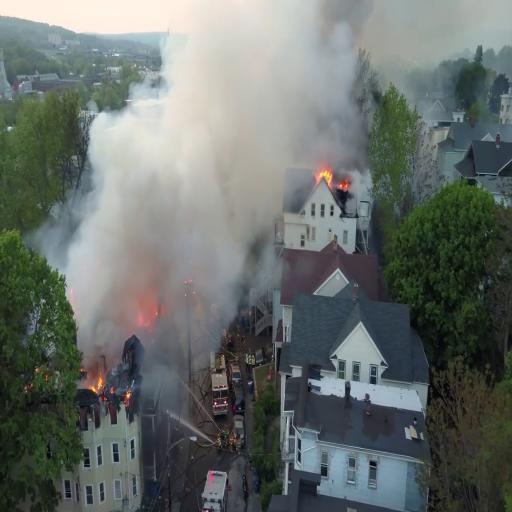smoke: (110, 125, 233, 279)
